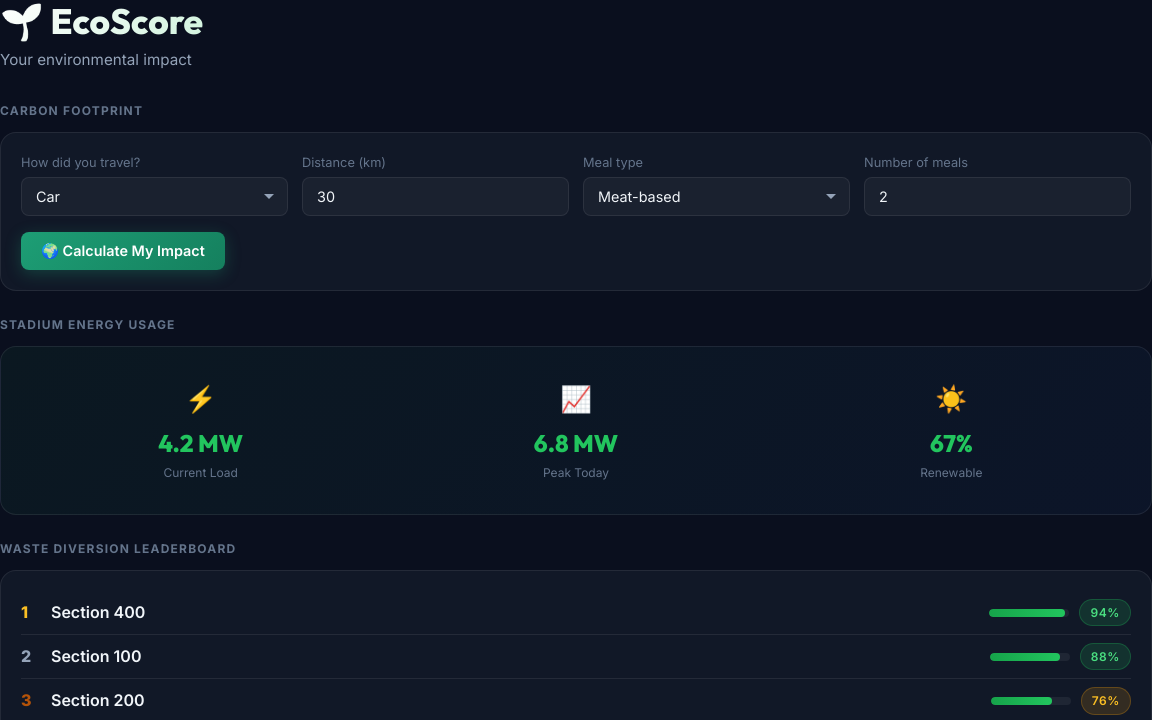
Test case: EcoScore › shows AI eco tips after calculation
The image size is (1152, 720).
What coordinates should you click on to do the following:
click the button "🌍 Calculate My Impact"
I would click on:
 (123, 251)
Its box is top-left (21, 232), bottom-right (225, 270).
(page scrolled)
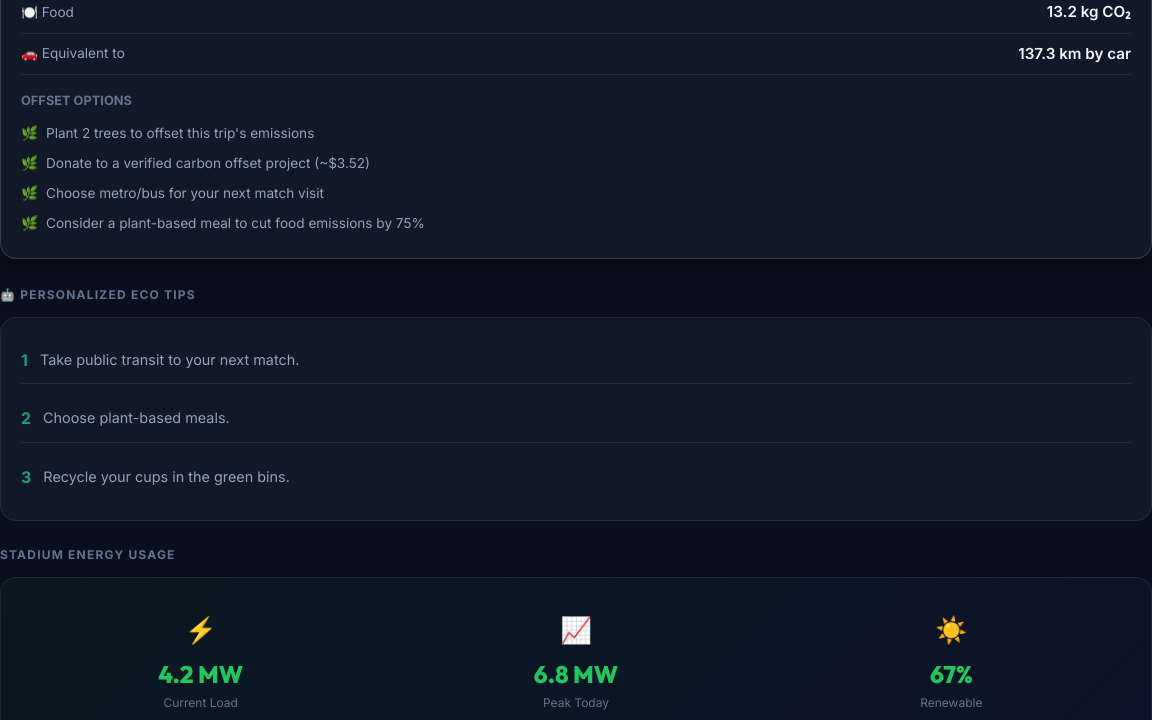
Now the text "Take public transit to your next match." is shown, box top-left (40, 348), bottom-right (299, 373)
